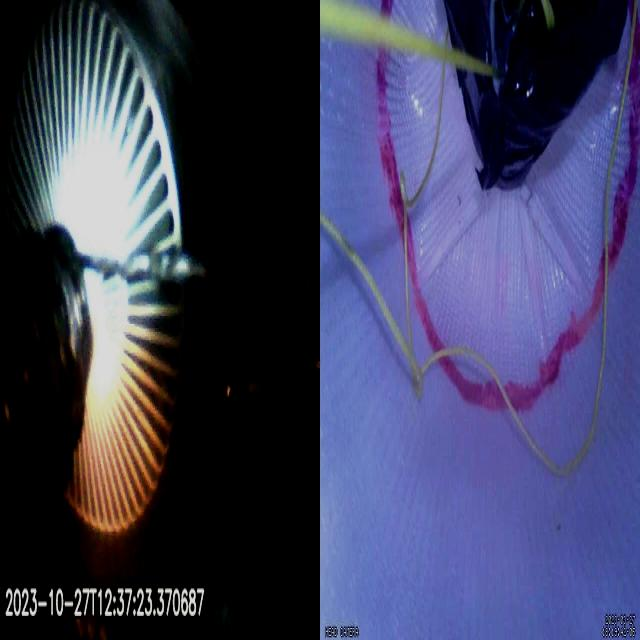red-circle: (375, 1, 640, 412)
